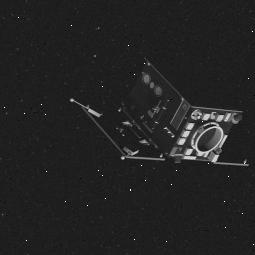proba_2: (66, 64, 255, 182)
